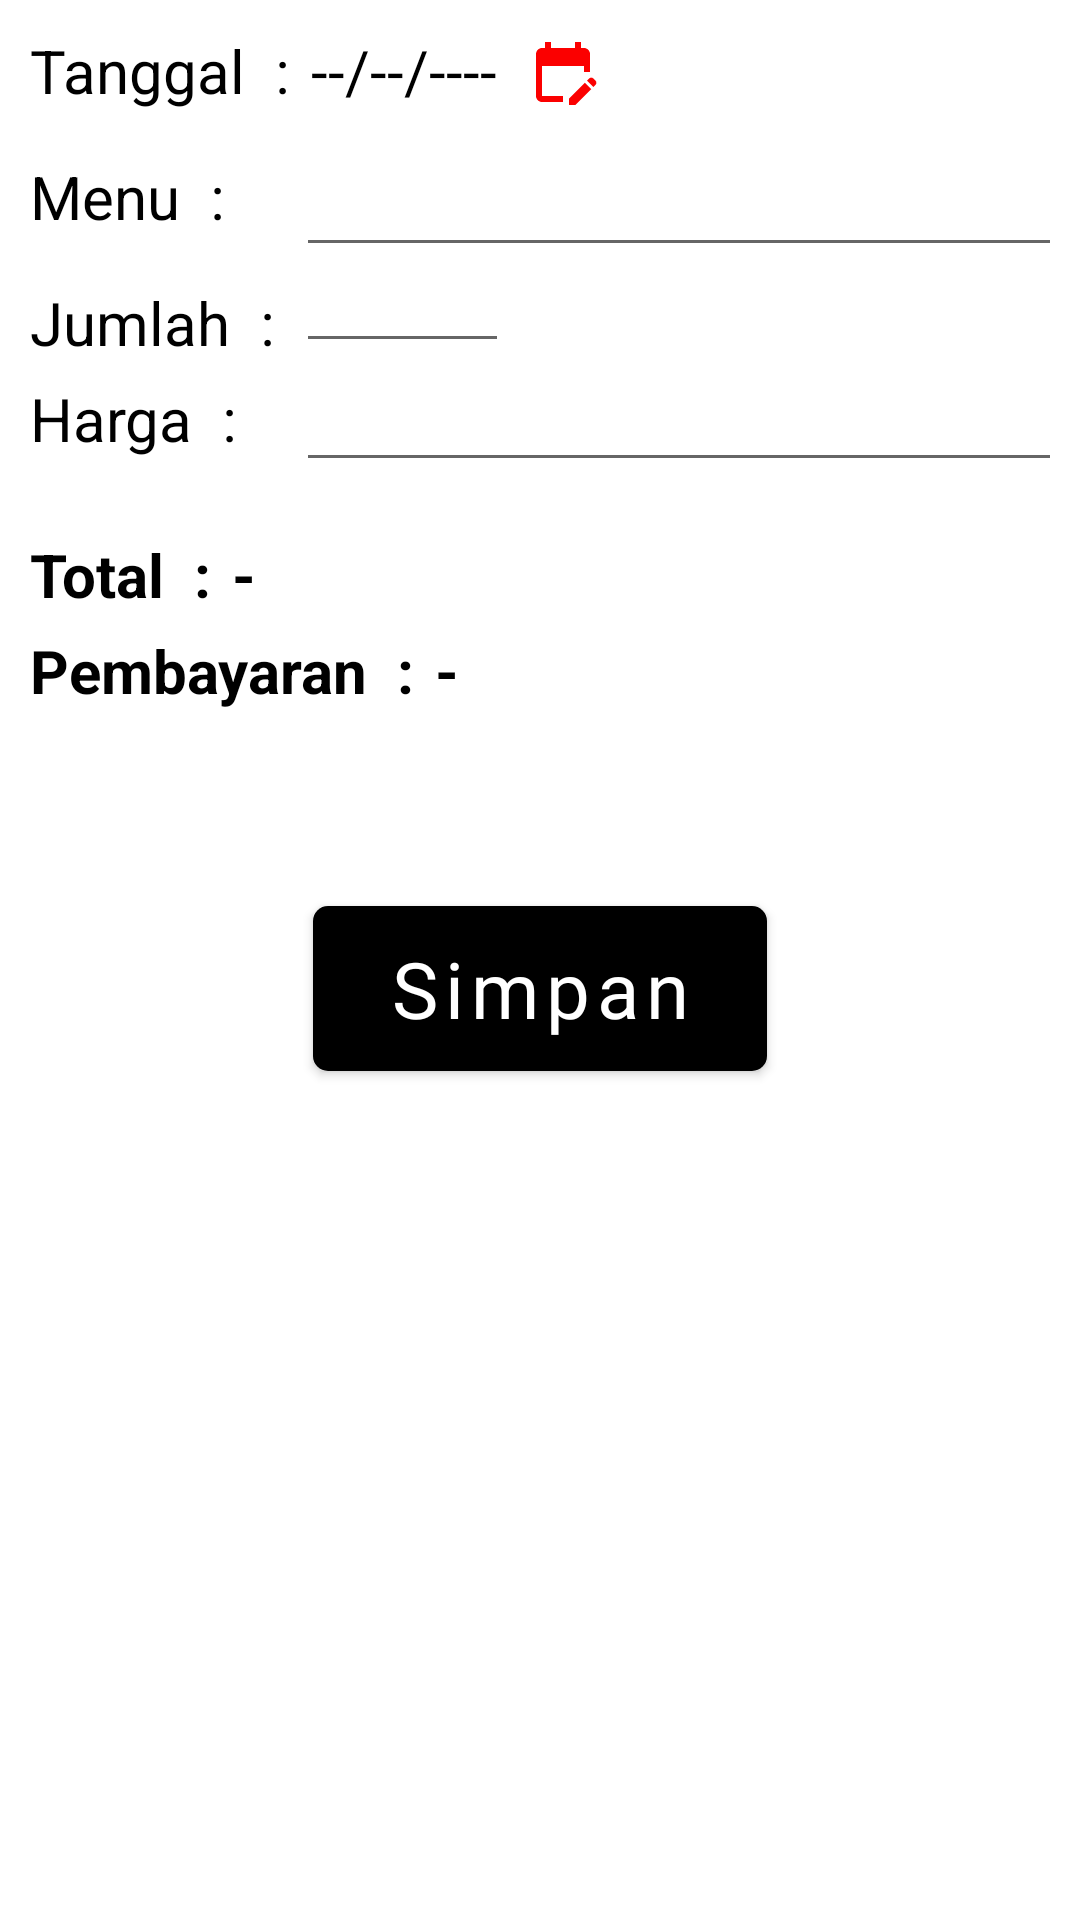

Locate icon controls on the screen. Image size 1080*1920, boxes as (x1, y1, x2, y2).
edit calendar: (536, 42, 597, 105)
